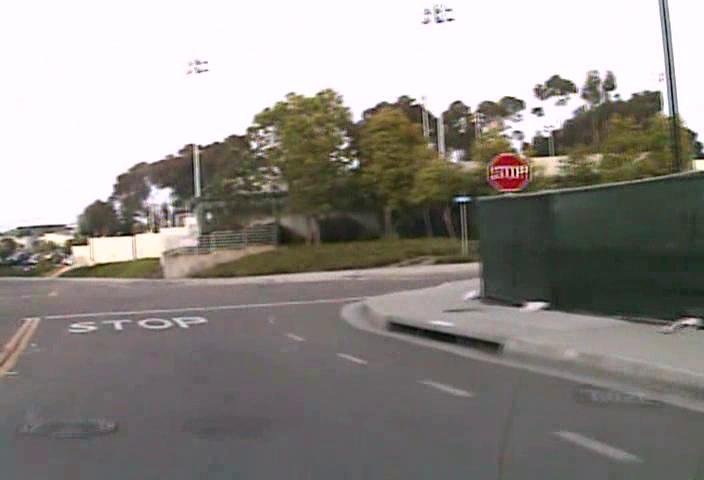stop: (485, 152, 530, 192)
